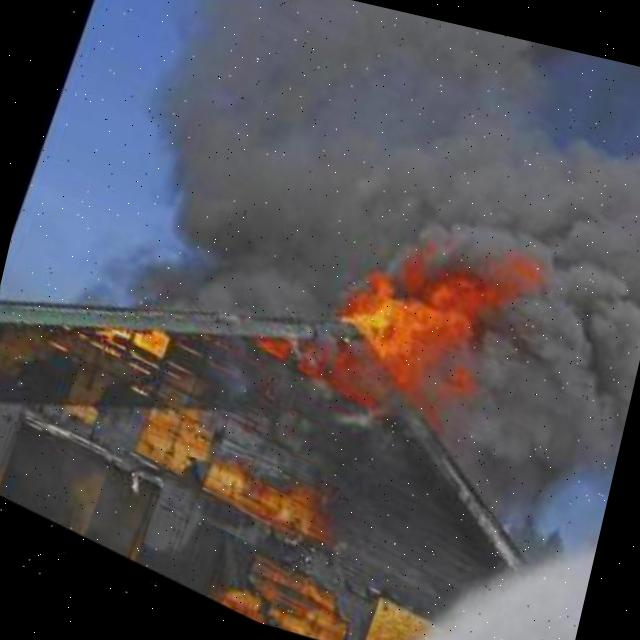fire: (216, 140, 581, 484), (67, 289, 181, 376)
